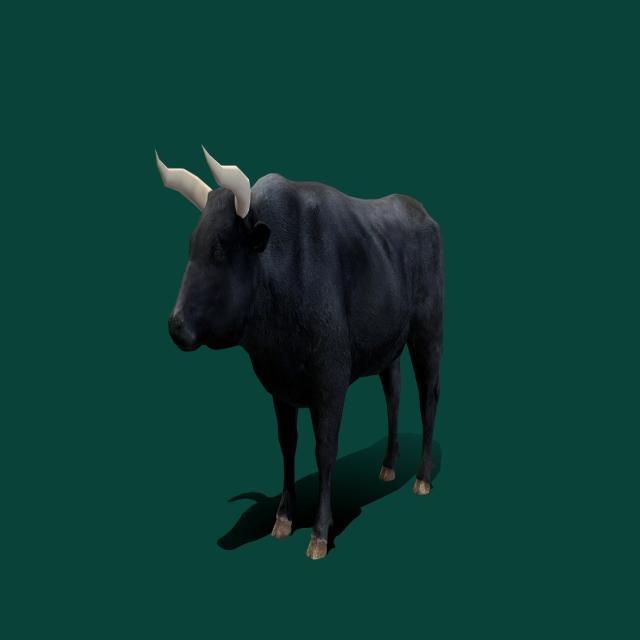Ox: (152, 148, 444, 561)
